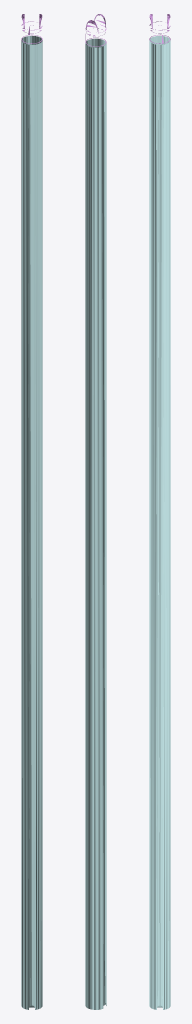
3 views of the same model, side by side, from view 1: azimuth 90°, elevation 25°; view 2: azimuth 150°, elevation 25°; view 3: azimuth 270°, elevation 25° (orthographic).
Visible parts, largest first — view 1: 340117_DC_Shell, 332009_DC_Shell; view 2: 340117_DC_Shell, 332009_DC_Shell; view 3: 340117_DC_Shell, 332009_DC_Shell.
Boxes of the visible parts, x1=… form: 340117_DC_Shell: x1=21, y1=36, x2=42, y2=1009; 332009_DC_Shell: x1=21, y1=14, x2=42, y2=43; 340117_DC_Shell: x1=85, y1=38, x2=106, y2=1009; 332009_DC_Shell: x1=85, y1=14, x2=106, y2=46; 340117_DC_Shell: x1=149, y1=36, x2=170, y2=1009; 332009_DC_Shell: x1=149, y1=14, x2=170, y2=43.
Size of the model in its own units: 0.329 by 16.86 by 0.329.
